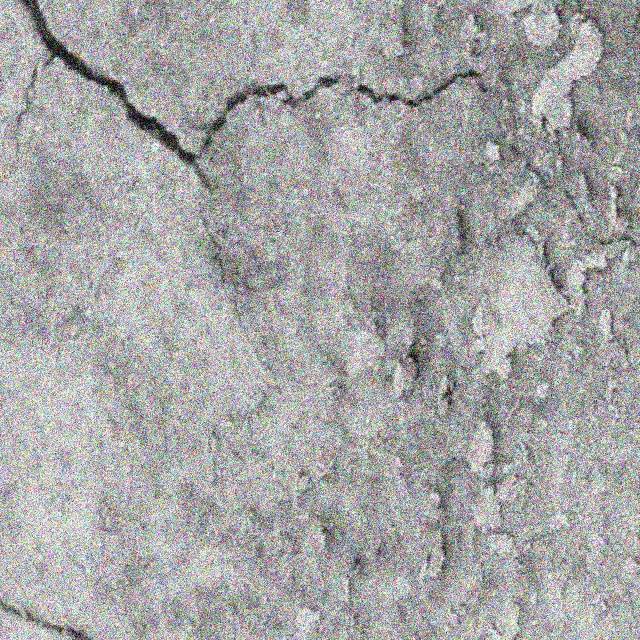SurfaceCrack: (1, 2, 635, 635)
